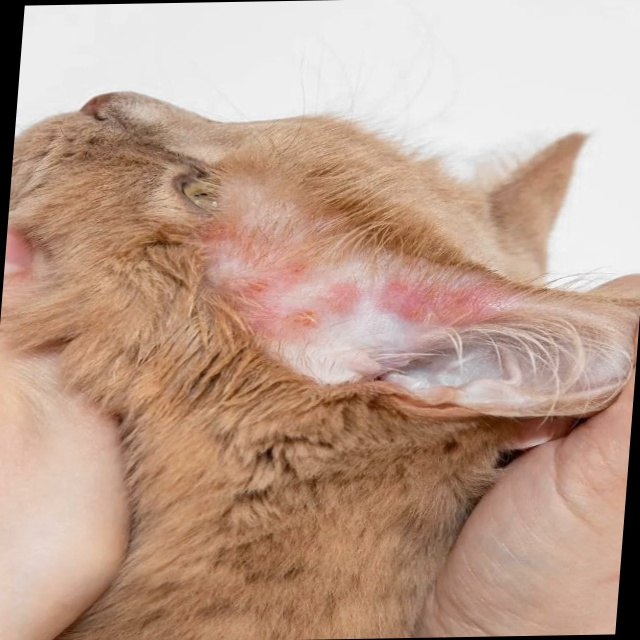ringworm: (201, 211, 467, 335)
